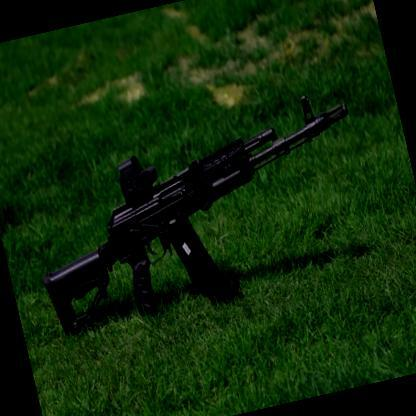rifle: (13, 104, 384, 350)
